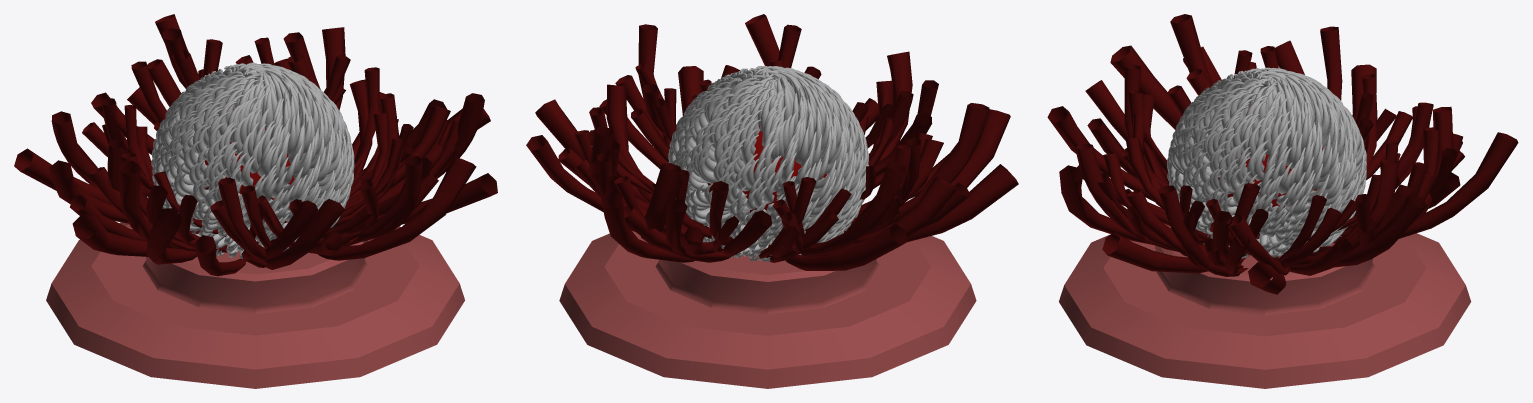
File: ArtefaktRot.fbx
3 views of the same model, side by side, from view 1: azimuth 30°, elevation 25°; view 2: azimuth 150°, elevation 25°; view 3: azimuth 270°, elevation 25° (orthographic).
Visible parts, largest first — view 1: Party, StandRed, Spikes; view 2: Party, StandRed, Spikes, Sphere; view 3: Party, StandRed, Spikes.
Part boxes in pixels (x1,y1,x2,y2): Party: [14, 14, 497, 276]; StandRed: [46, 222, 464, 388]; Spikes: [151, 62, 354, 258]; Party: [526, 14, 1018, 270]; StandRed: [559, 231, 976, 388]; Spikes: [668, 66, 868, 261]; Sphere: [702, 125, 826, 212]; Party: [1047, 14, 1518, 294]; StandRed: [1059, 224, 1471, 388]; Spikes: [1167, 67, 1366, 258].
Size of the model in its own units: 6.74 by 3.28 by 6.23.
